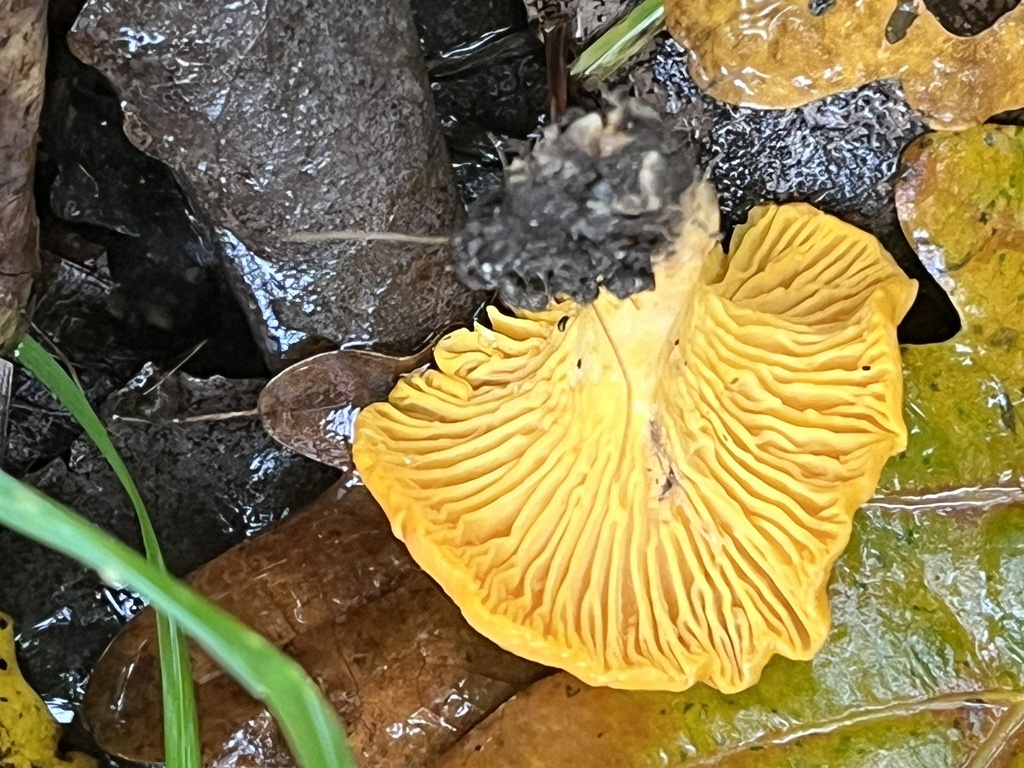stem: (554, 182, 719, 434)
underside: (353, 205, 916, 692)
